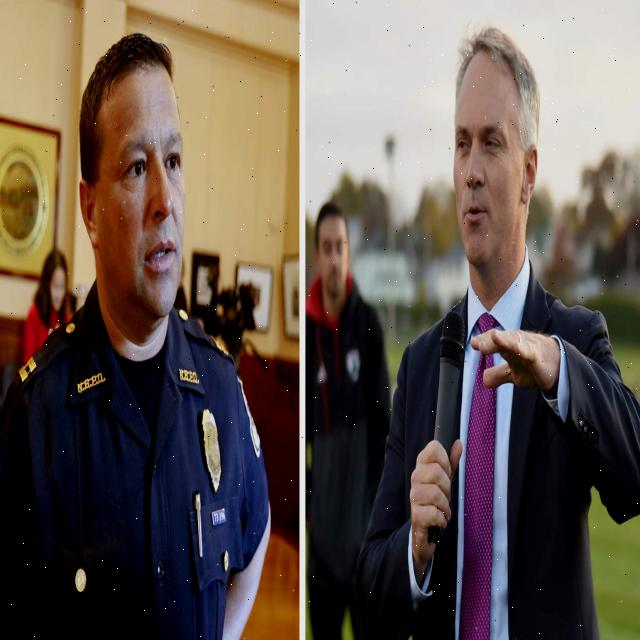police: (5, 31, 274, 640)
